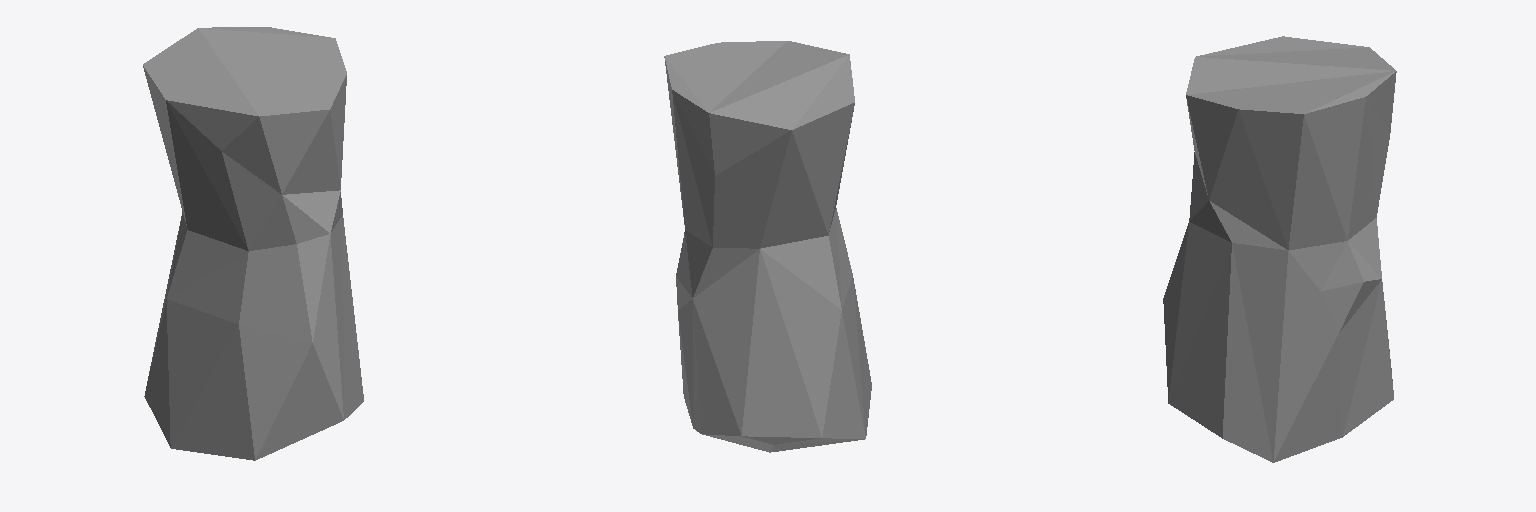
File: Low_Poly_Rock_Big_005.obj
The picture shows the model from 3 angles: view 1: azimuth 30°, elevation 25°; view 2: azimuth 150°, elevation 25°; view 3: azimuth 270°, elevation 25°; orthographic projection.
Parts seen in each view (by area): view 1: Low_Poly_Rock_Big_005_Icosphere.010; view 2: Low_Poly_Rock_Big_005_Icosphere.010; view 3: Low_Poly_Rock_Big_005_Icosphere.010.
Boxes of the visible parts, <box> form: Low_Poly_Rock_Big_005_Icosphere.010: <box>143,27,363,460</box>; Low_Poly_Rock_Big_005_Icosphere.010: <box>664,41,871,452</box>; Low_Poly_Rock_Big_005_Icosphere.010: <box>1163,36,1396,462</box>.
Size of the model in its own units: 4.57 by 8.88 by 5.04.